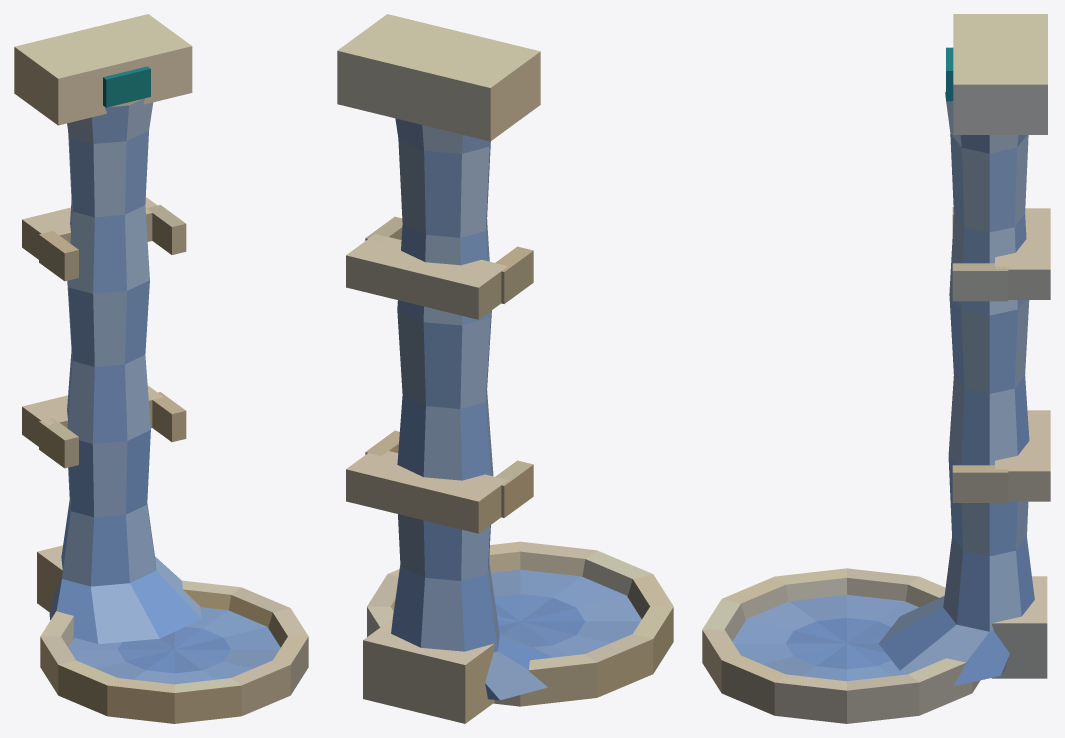
Rendered from shortcut_lift_up.glb.
3 renders of one model, left to right at view 1: azimuth 30°, elevation 25°; view 2: azimuth 150°, elevation 25°; view 3: azimuth 270°, elevation 25°, orthographic. The views are drawn at different scales.
Parts seen in each view (by area): view 1: shortcut_lift_up, flow; view 2: shortcut_lift_up, flow; view 3: shortcut_lift_up, flow.
Part boxes in pixels (x1,y1,x2,y2): shortcut_lift_up: (14, 14, 308, 723); flow: (49, 98, 201, 643); shortcut_lift_up: (337, 14, 673, 723); flow: (391, 118, 551, 700); shortcut_lift_up: (702, 14, 1050, 723); flow: (878, 92, 1034, 686).
Size of the model in its own units: 2.6 by 6.08 by 3.13.
